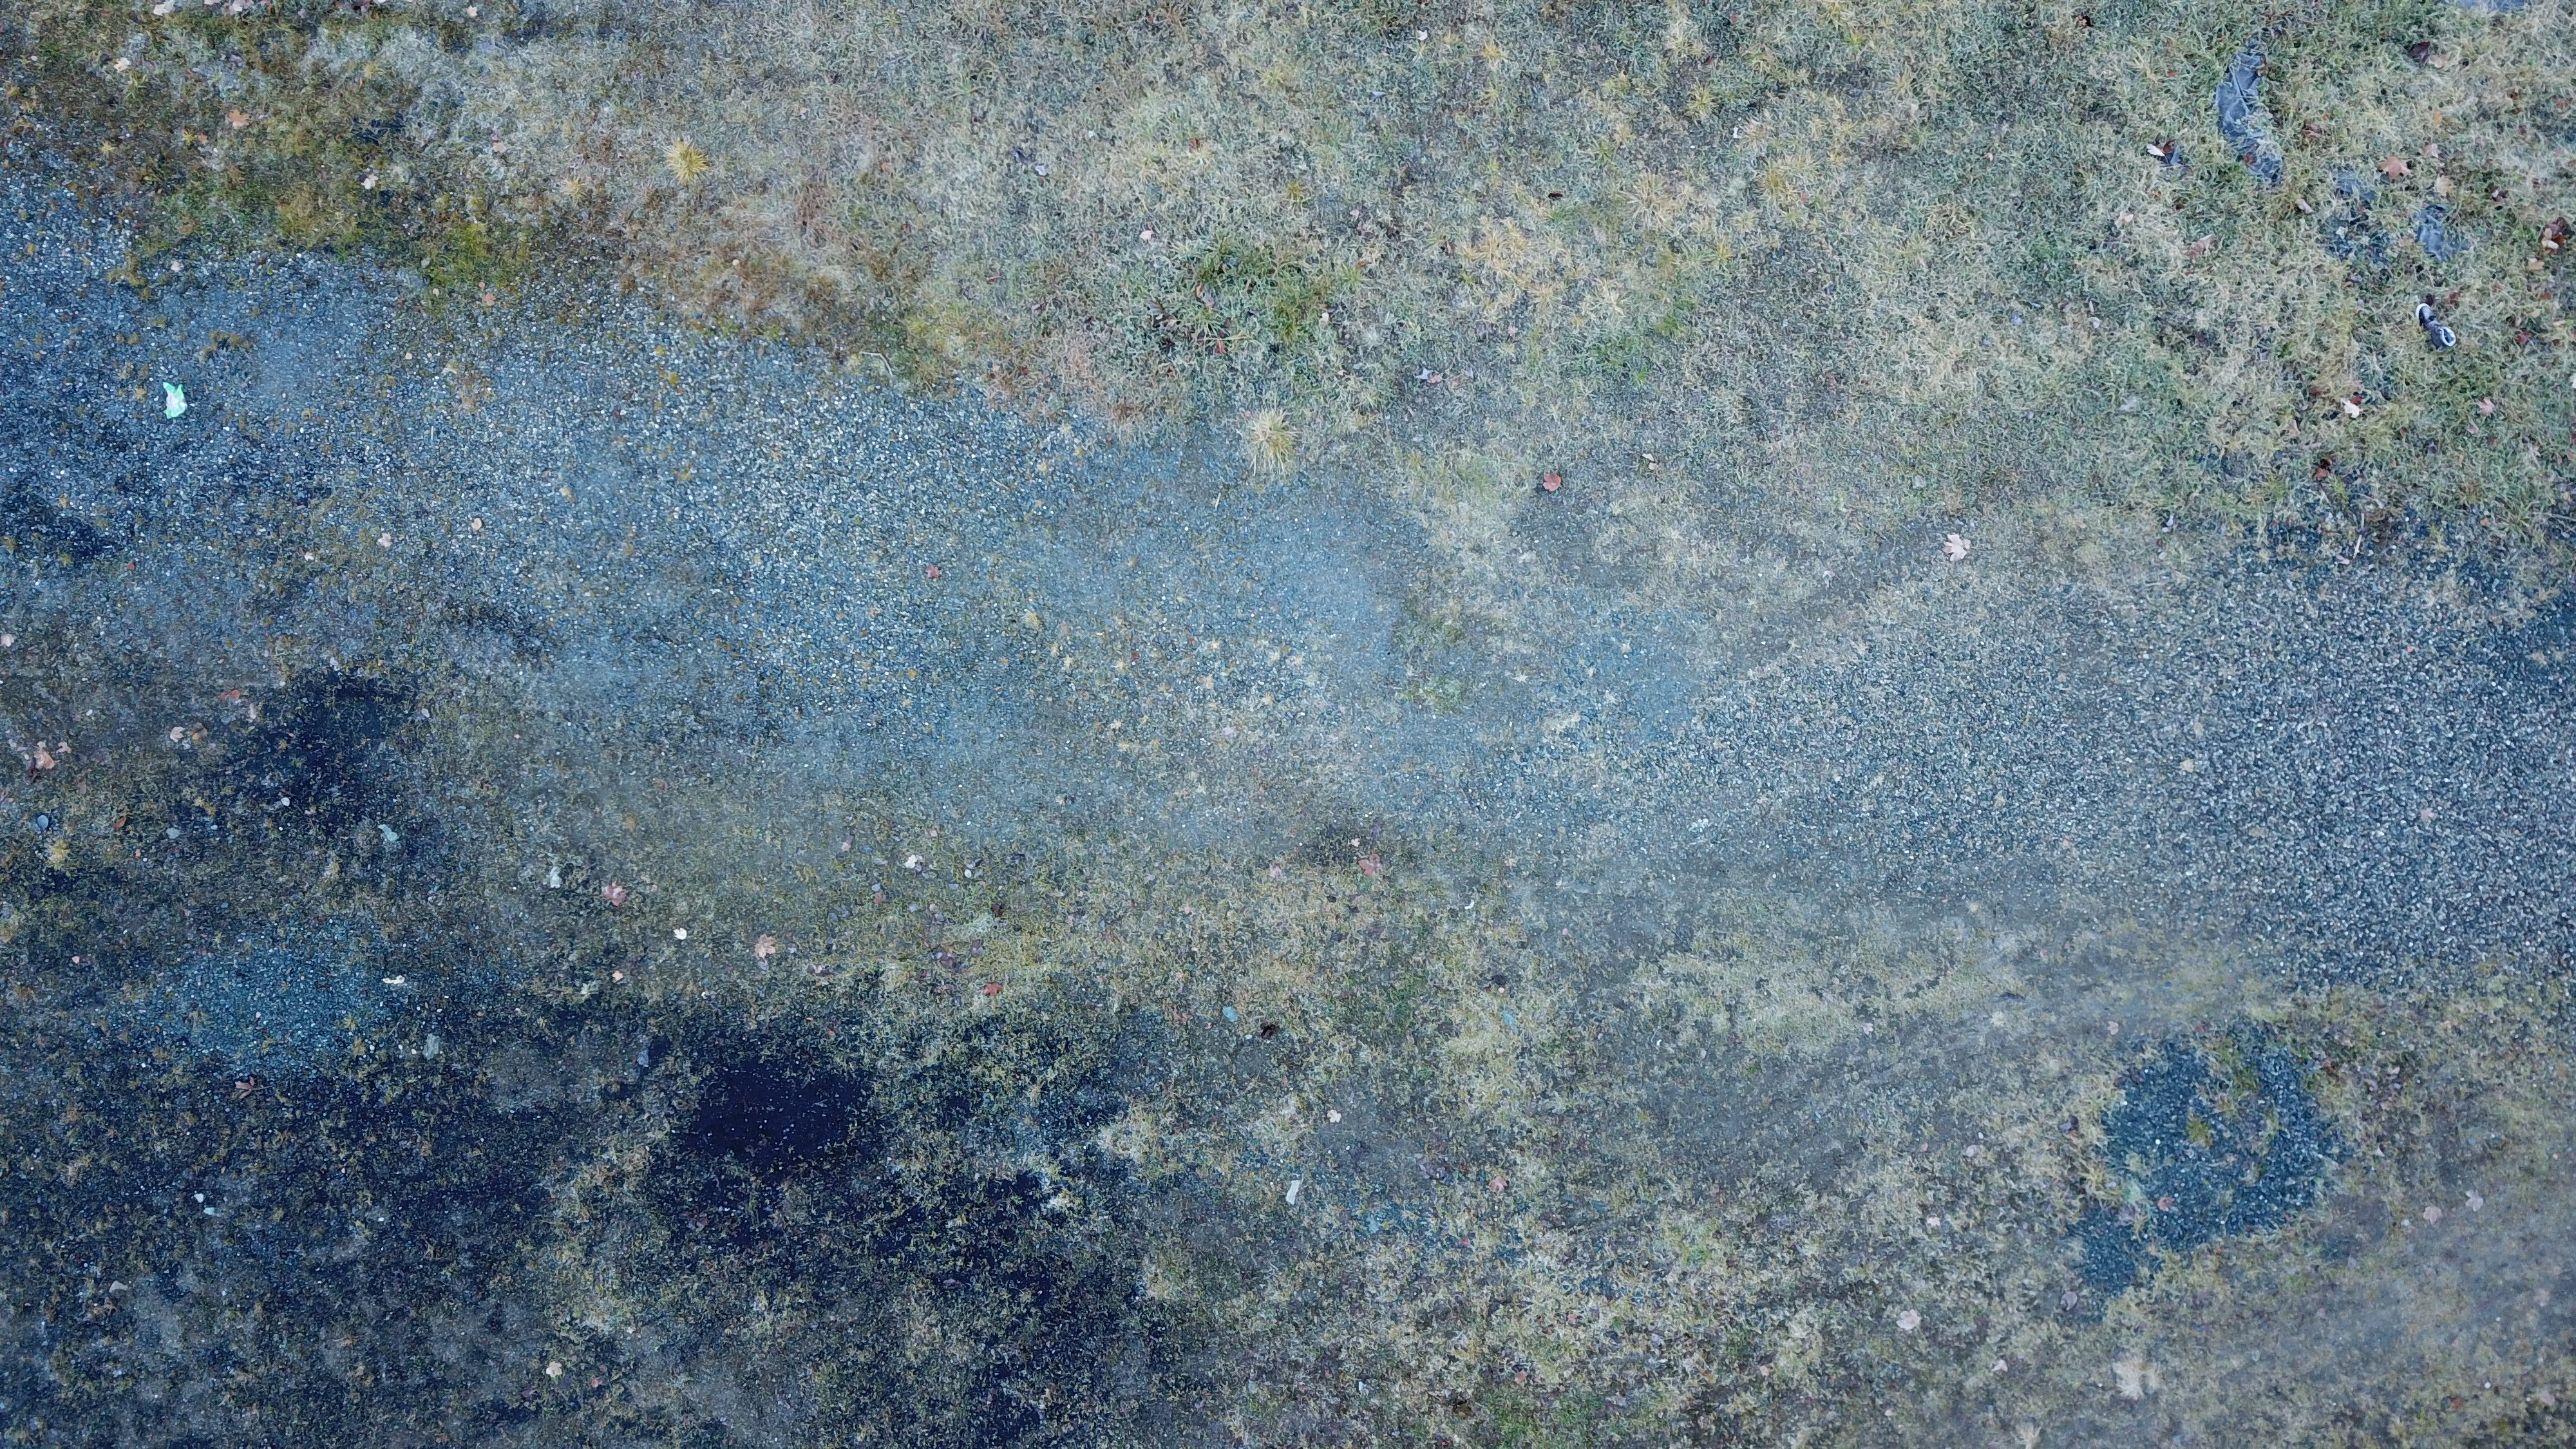Other: (2415, 304, 2456, 354)
Plastic: (159, 382, 188, 421), (1286, 1182, 1304, 1205), (203, 1208, 216, 1217)
